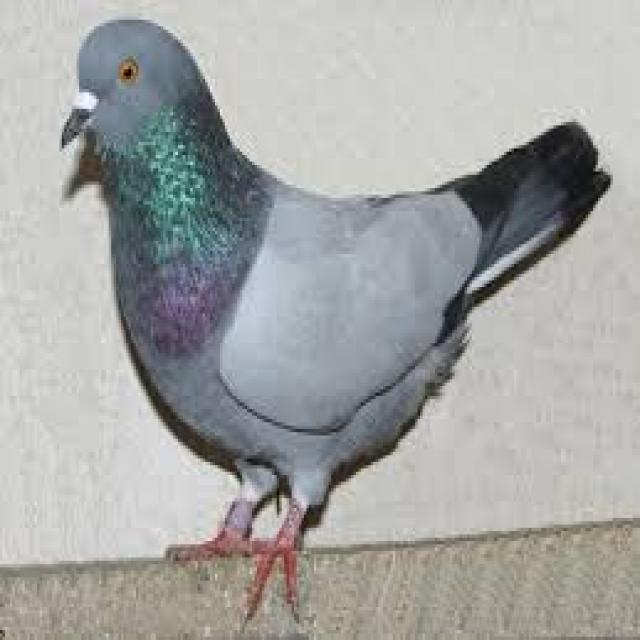bird: (54, 18, 619, 617)
